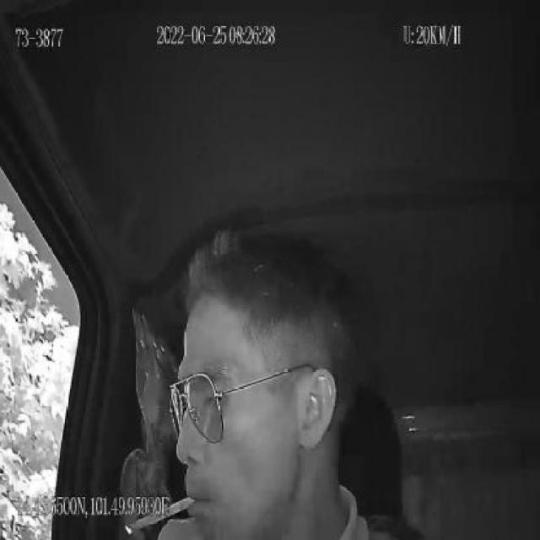smoking: (127, 493, 194, 531)
